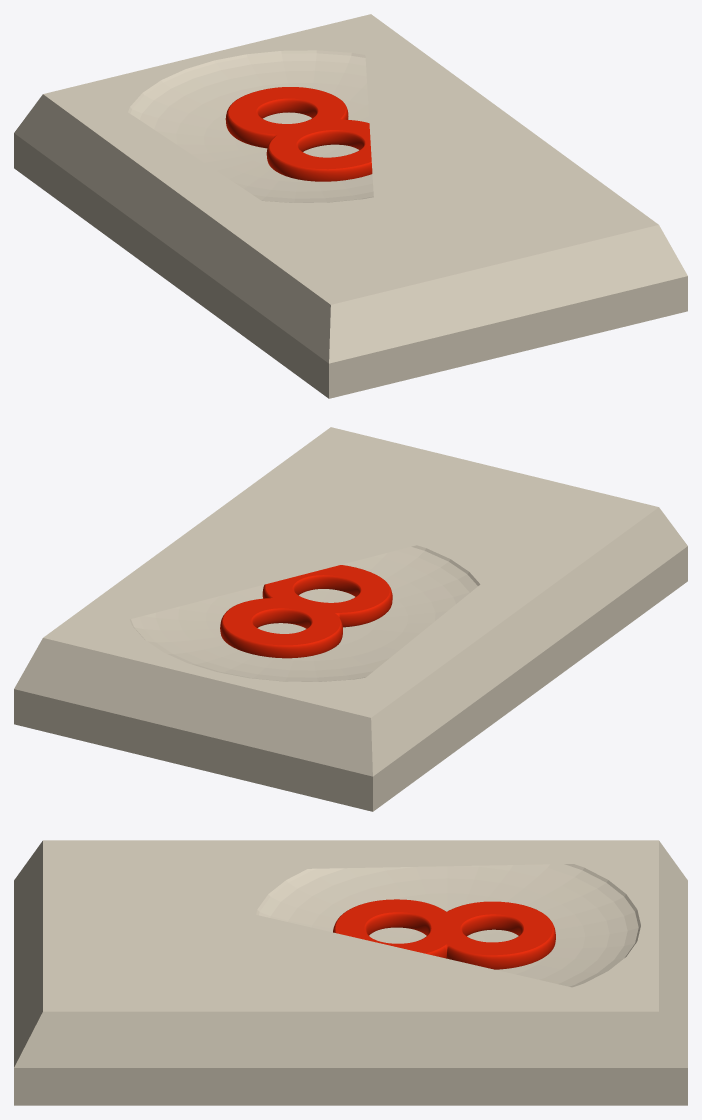
The model's file is r8_cube_tail.fbx.
3 views of the same model, one above another, from view 1: azimuth 30°, elevation 25°; view 2: azimuth 150°, elevation 25°; view 3: azimuth 270°, elevation 25° (orthographic). The views are drawn at different scales.
Parts seen in each view (by area): view 1: 큐브, 숫자; view 2: 큐브, 숫자; view 3: 큐브, 숫자.
Part boxes in pixels (x1,y1,x2,y2): 큐브: (14,14,687,398); 숫자: (225,87,372,181); 큐브: (14,427,687,811); 숫자: (220,565,392,658); 큐브: (14,840,687,1105); 숫자: (333,899,555,969).
Size of the model in its own units: 500 by 107 by 760.
